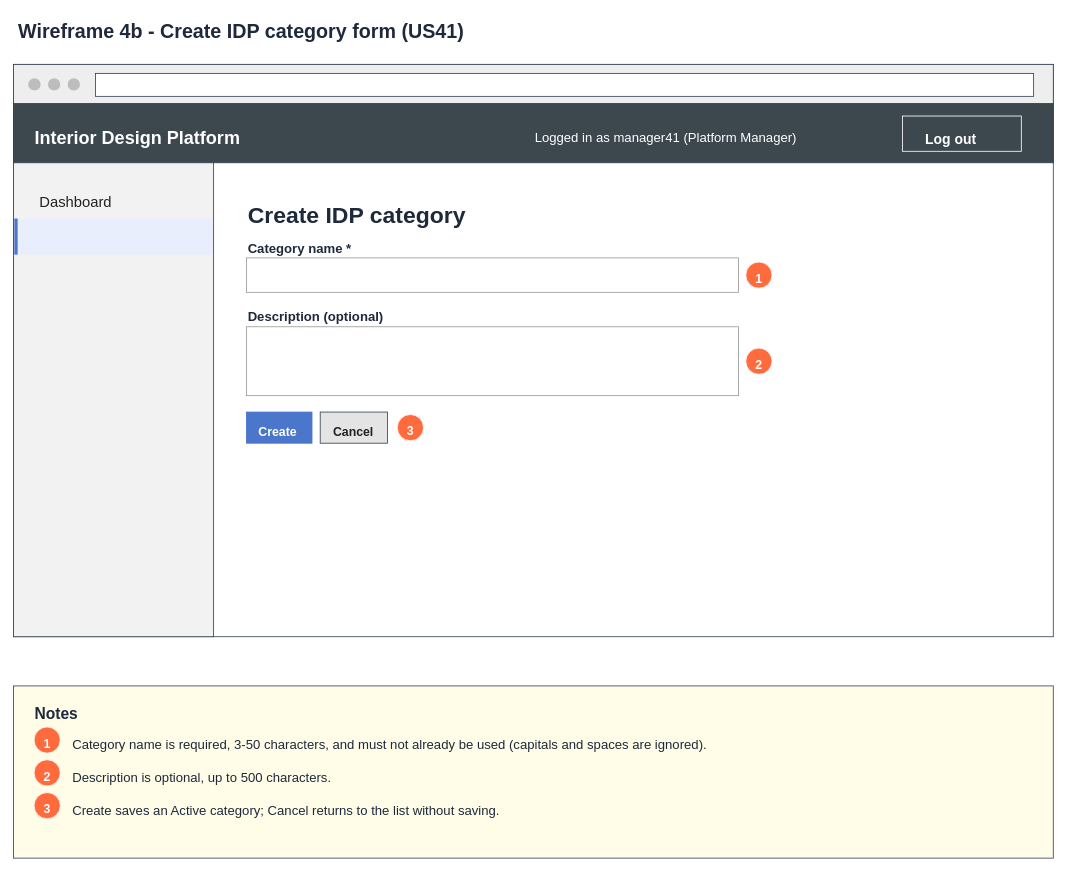
The diagram is 1067 pixels wide and 872 high, and some of its shapes have lost their labels. The shapes that lost their labels are listed below. From the top down, each one's centre as x and y in pixels, then its label:
At pixel 564 84: "localhost:5000/manager/categories/create".
At pixel 113 236: "IDP Categories".
At pixel 492 274: "Kitchen".
At pixel 492 361: "Cooking and dining spaces".
